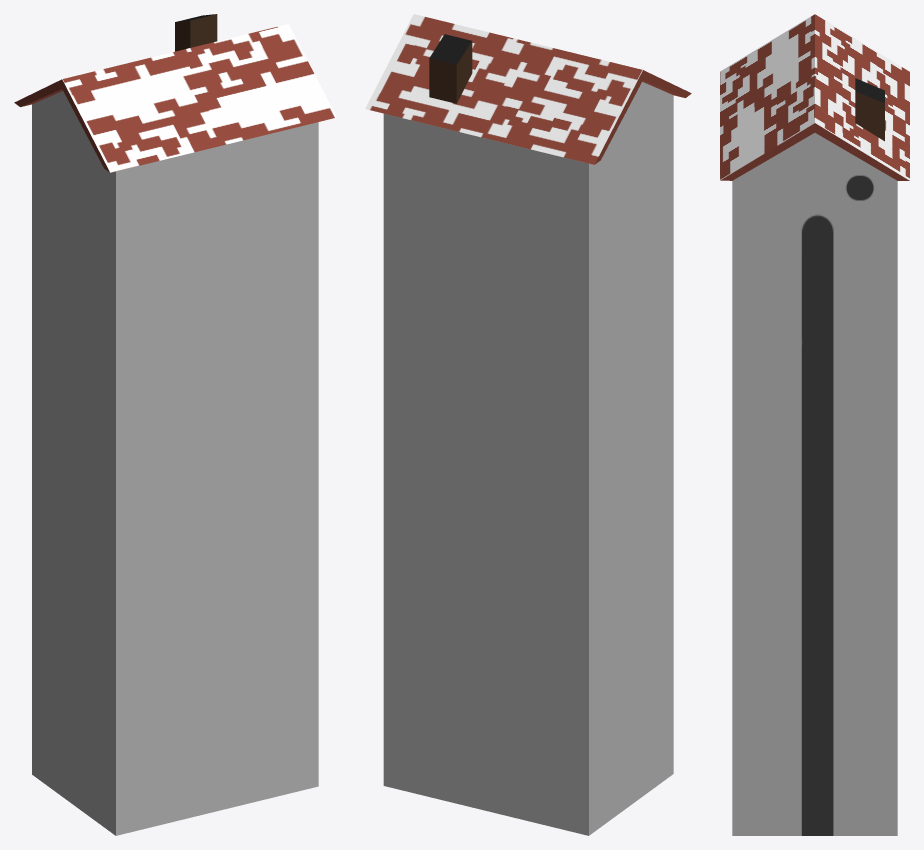
The model's file is House_1.fbx.
The picture shows the model from 3 angles, left to right: view 1: azimuth 30°, elevation 25°; view 2: azimuth 150°, elevation 25°; view 3: azimuth 270°, elevation 25°; orthographic projection. The views are drawn at different scales.
Visible parts, largest first — view 1: Cube; view 2: Cube; view 3: Cube.
Boxes of the visible parts, x1,y1,x2,y2 form: Cube: (14, 14, 336, 835); Cube: (365, 14, 691, 835); Cube: (720, 14, 909, 835).
Size of the model in its own units: 485 by 1506 by 357.
